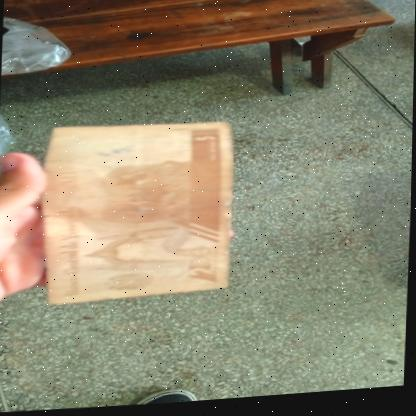five-back-vef: (41, 119, 236, 309)
